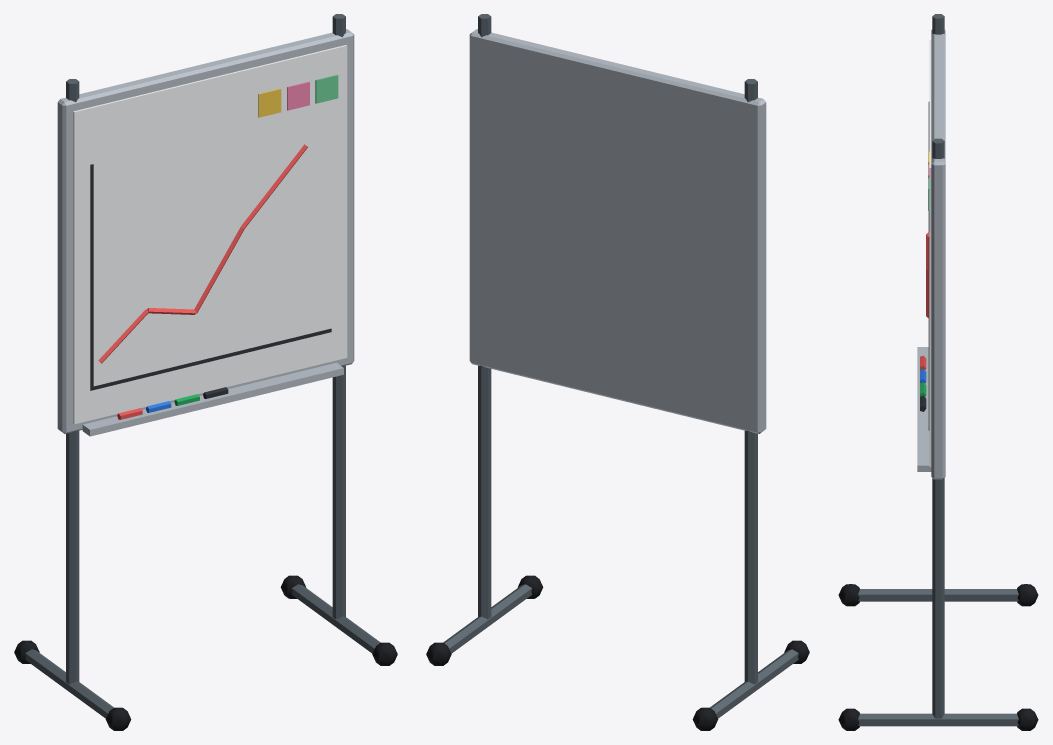
Rendered from whiteboard.glb.
3 renders of one model, left to right at view 1: azimuth 30°, elevation 25°; view 2: azimuth 150°, elevation 25°; view 3: azimuth 270°, elevation 25°, orthographic. The views are drawn at different scales.
Visible parts, largest first — view 1: whiteboard; view 2: whiteboard; view 3: whiteboard.
Part boxes in pixels (bbox=[...]): whiteboard: bbox=[14, 14, 397, 730]; whiteboard: bbox=[426, 14, 809, 730]; whiteboard: bbox=[838, 14, 1038, 730].
Bounding box in the file's own units: 0.92 × 1.86 × 0.57.
